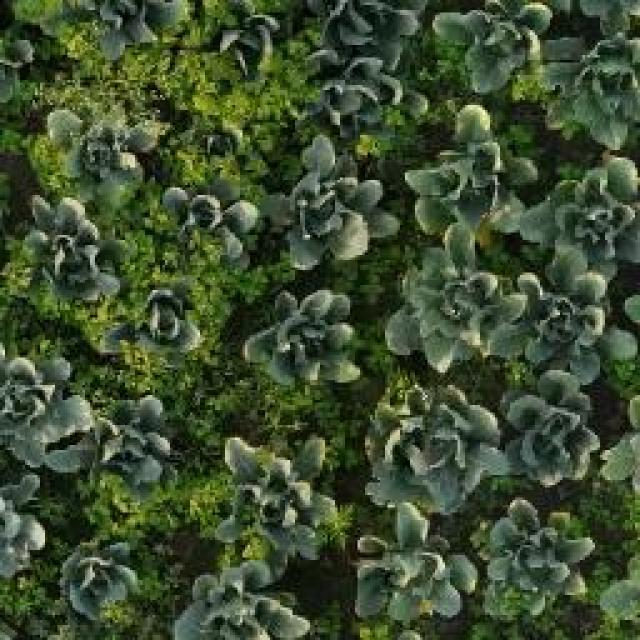cabbage: (390, 233, 514, 371), (474, 495, 596, 618), (357, 506, 478, 625), (373, 390, 485, 508), (506, 258, 612, 382), (416, 113, 528, 230), (220, 422, 330, 540), (491, 378, 604, 491), (526, 152, 640, 258), (281, 149, 390, 259), (538, 42, 640, 147), (49, 94, 159, 190), (313, 43, 422, 130), (256, 290, 353, 384), (76, 395, 175, 487), (444, 0, 554, 82), (22, 202, 110, 296), (197, 567, 304, 640), (153, 180, 250, 260), (205, 2, 290, 92), (118, 284, 216, 358), (0, 354, 70, 448), (60, 538, 141, 614), (86, 0, 180, 59), (188, 113, 256, 172)
